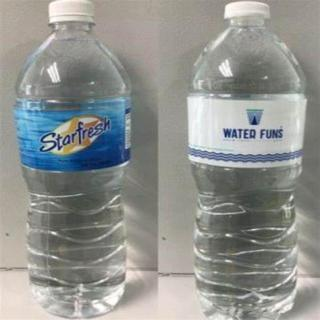Anorganik: (182, 0, 310, 320), (11, 0, 139, 315)
